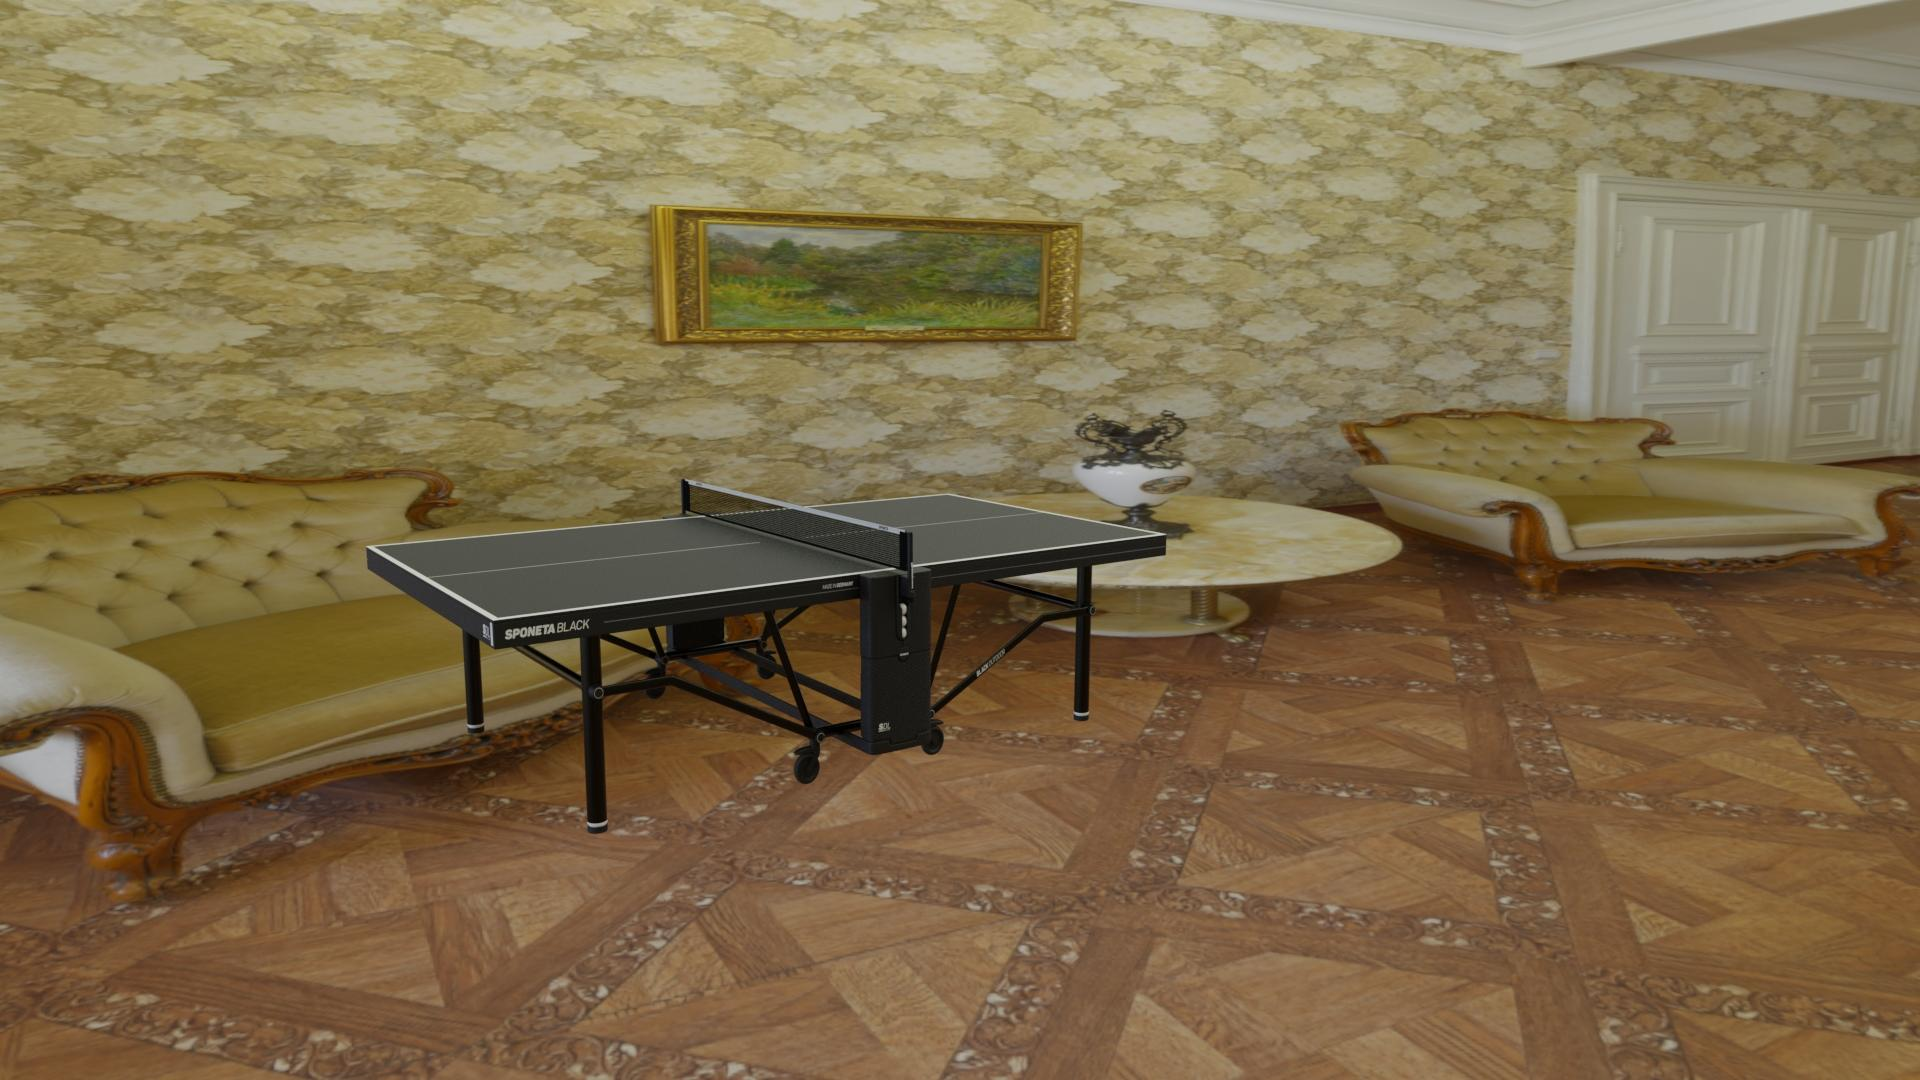table: (373, 495, 1159, 618)
